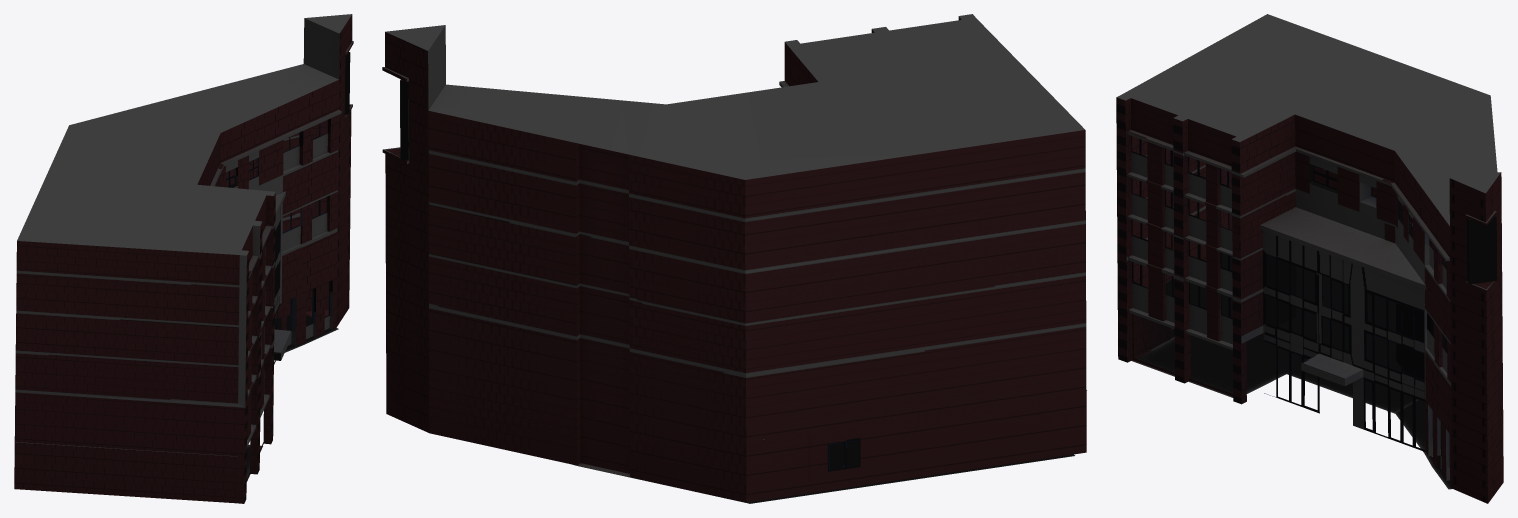
The model's file is ictc.fbx.
3 views of the same model, side by side, from view 1: azimuth 30°, elevation 25°; view 2: azimuth 150°, elevation 25°; view 3: azimuth 270°, elevation 25° (orthographic). The views are drawn at different scales.
Parts seen in each view (by area): view 1: Cube.005; view 2: Cube.005; view 3: Cube.005.
Boxes of the visible parts, bbox=[...] form: Cube.005: bbox=[14, 14, 353, 503]; Cube.005: bbox=[382, 14, 1086, 503]; Cube.005: bbox=[1116, 14, 1503, 503].
Bounding box in the file's own units: 2403 × 1536 × 1723.
Materials: 5 (5 with a texture image).
